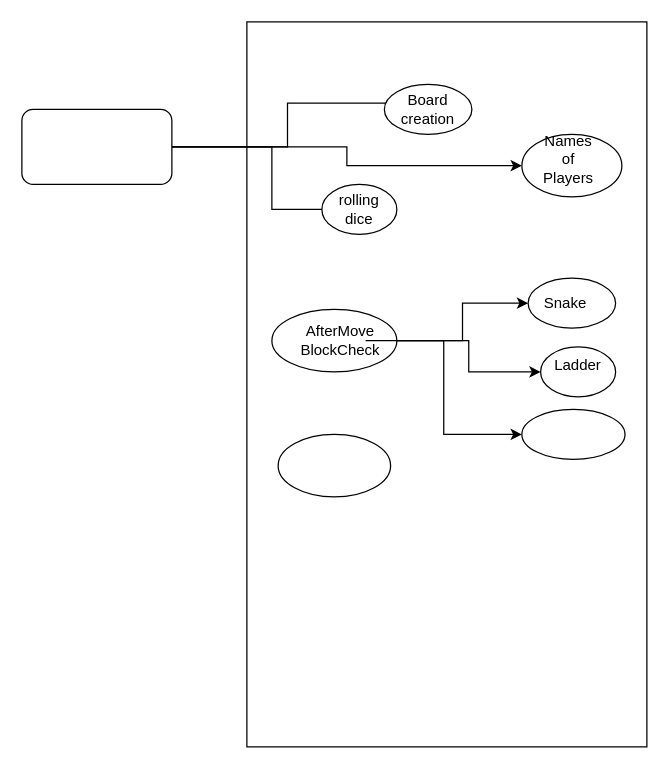
This 669x769 diagram has some shape labels left out. Each missing label, with the box of its shape:
Before Move BlockCheck: (277, 433, 391, 497)
Player: (21, 108, 172, 184)
win: (521, 408, 625, 459)
